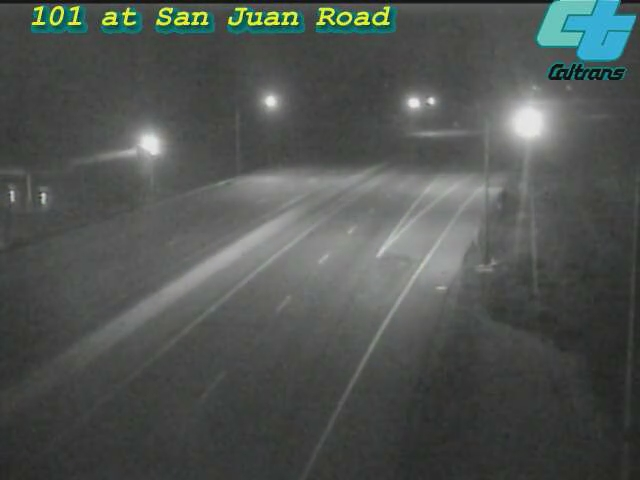vehicle: (498, 99, 548, 149)
